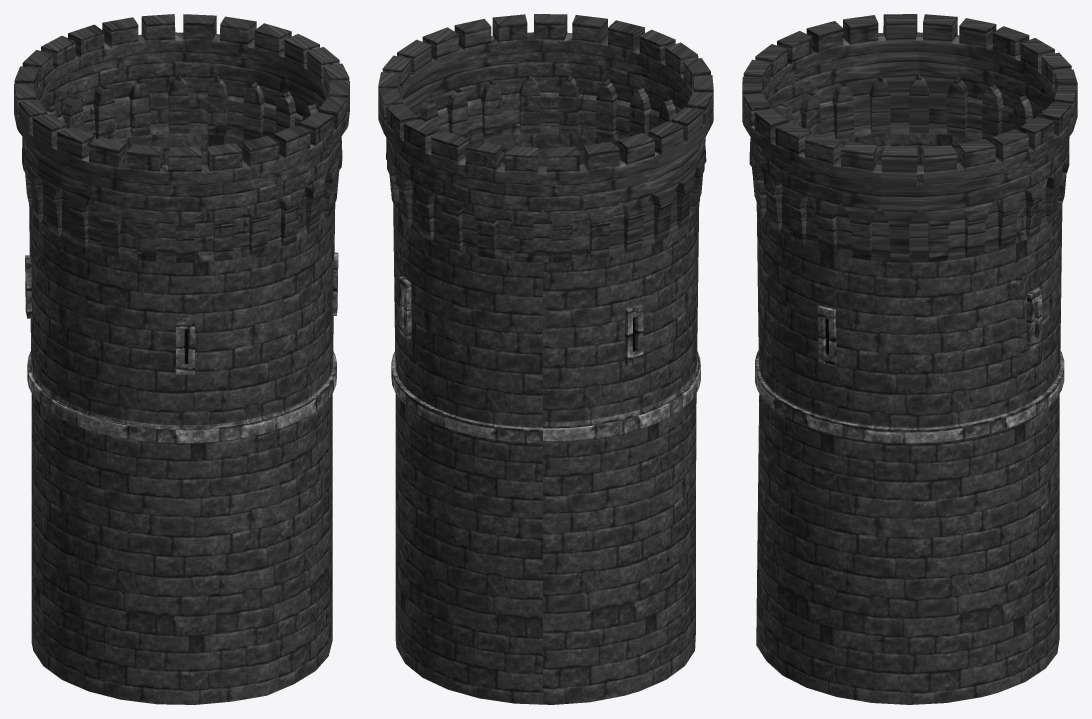
Rendered from Tower_v1.0.fbx.
3 renders of one model, left to right at view 1: azimuth 30°, elevation 25°; view 2: azimuth 150°, elevation 25°; view 3: azimuth 270°, elevation 25°, orthographic.
Visible parts, largest first — view 1: Tower; view 2: Tower; view 3: Tower.
Part boxes in pixels (box(x1,y1,x2,y2)): Tower: box(14, 14, 349, 704); Tower: box(378, 14, 713, 704); Tower: box(742, 14, 1077, 704).
Bounding box in the file's own units: 4.53 × 8.28 × 4.52.
